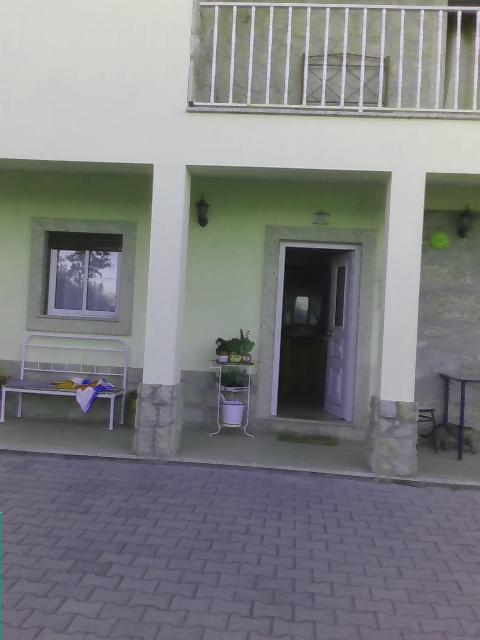open_door: (268, 237, 363, 427)
